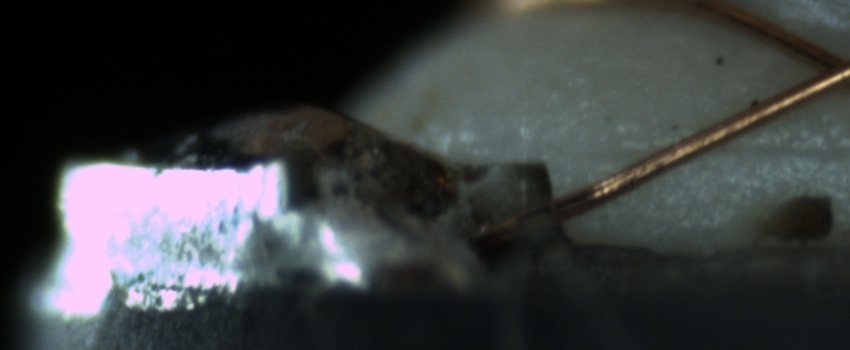CL: (782, 28, 849, 101)
DL: (611, 115, 848, 183)
